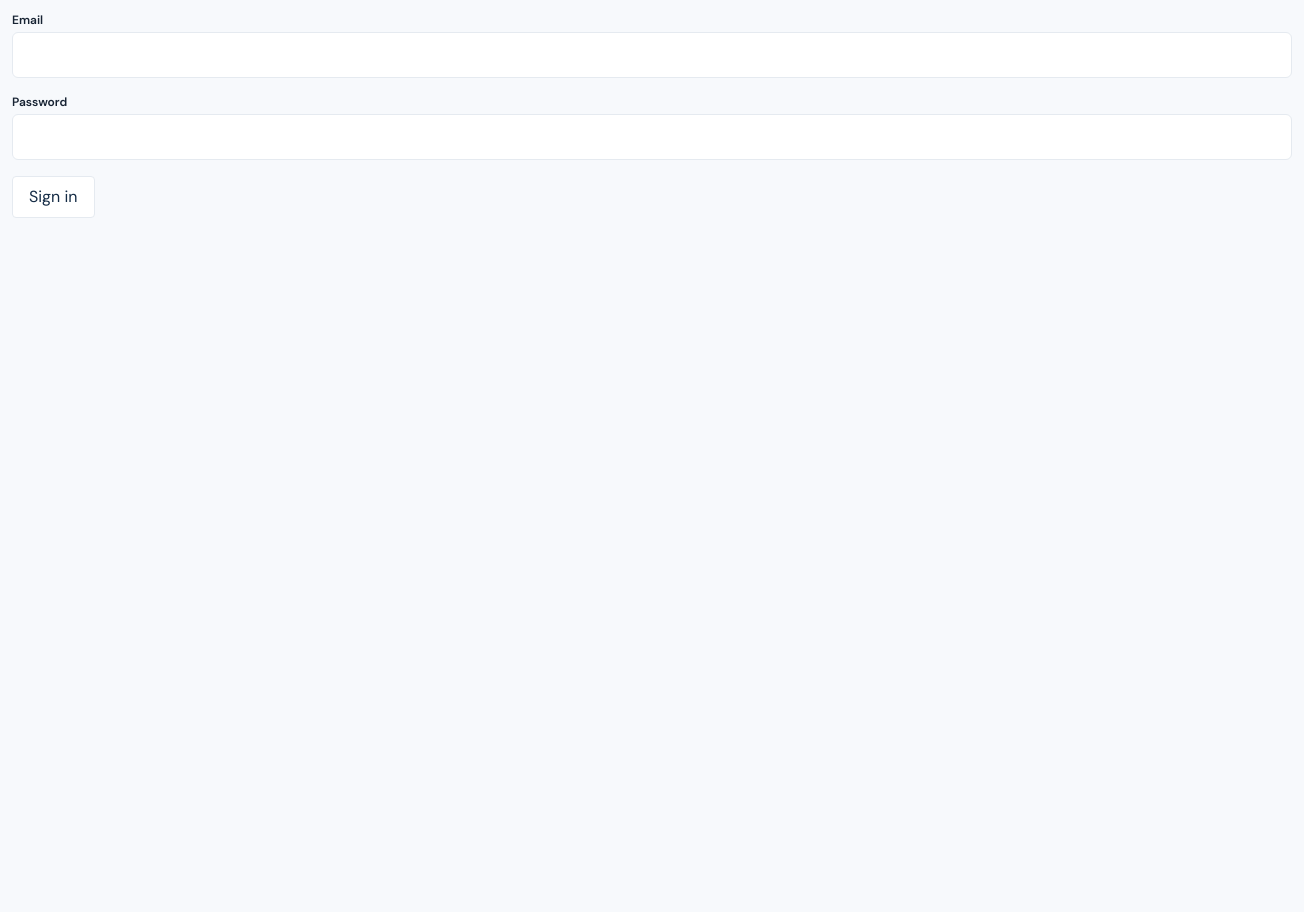
Scenario: AuthForm › keeps validation active and shows a friendly message after valid input
Click the button "Sign in": [53, 197] box [12, 176, 94, 218]
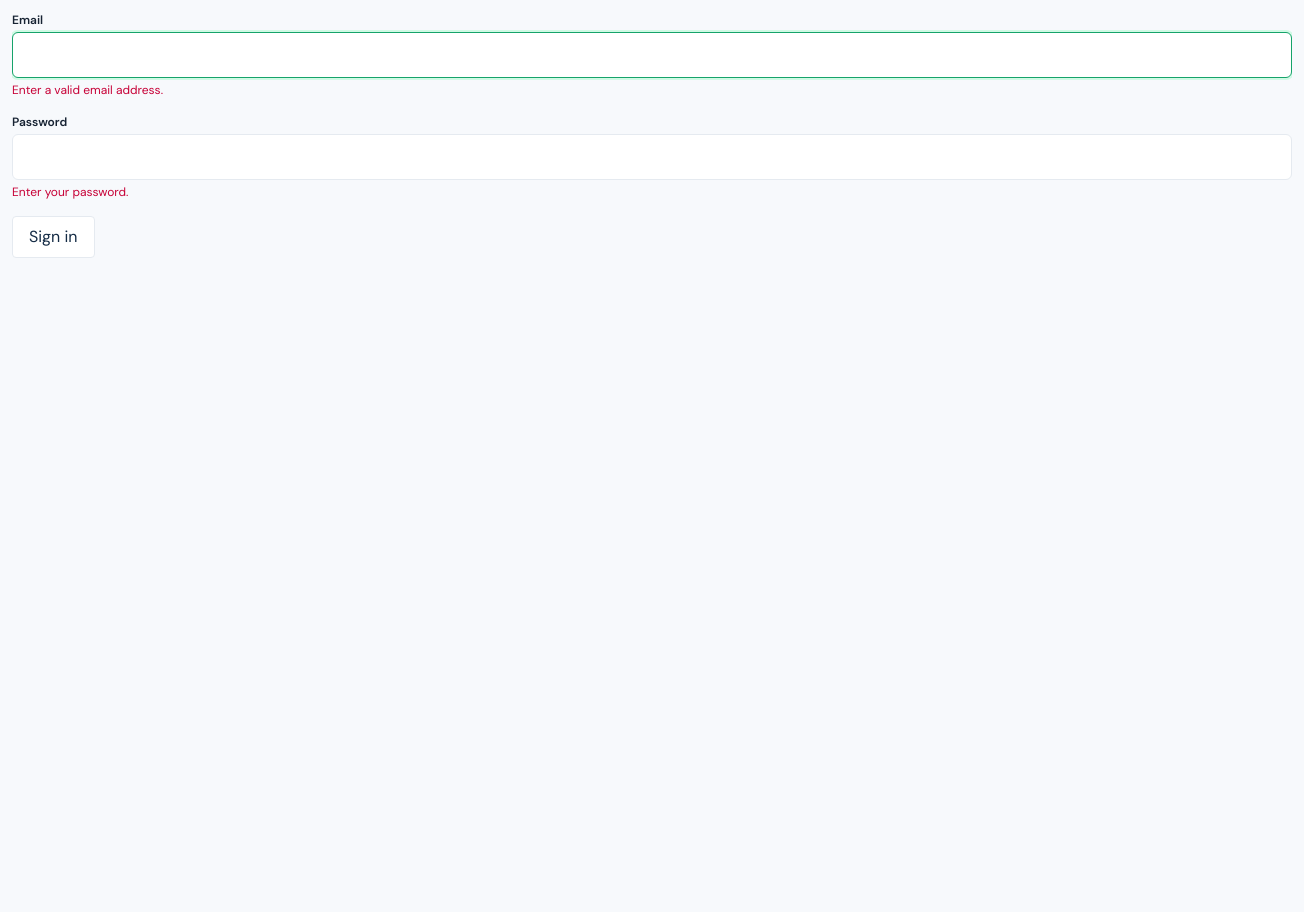
Expected: the text "Enter a valid email address." is shown, [12, 82, 163, 98]
In the field labelled "Email": [652, 55] box [12, 32, 1292, 78], type "seller@example.com"
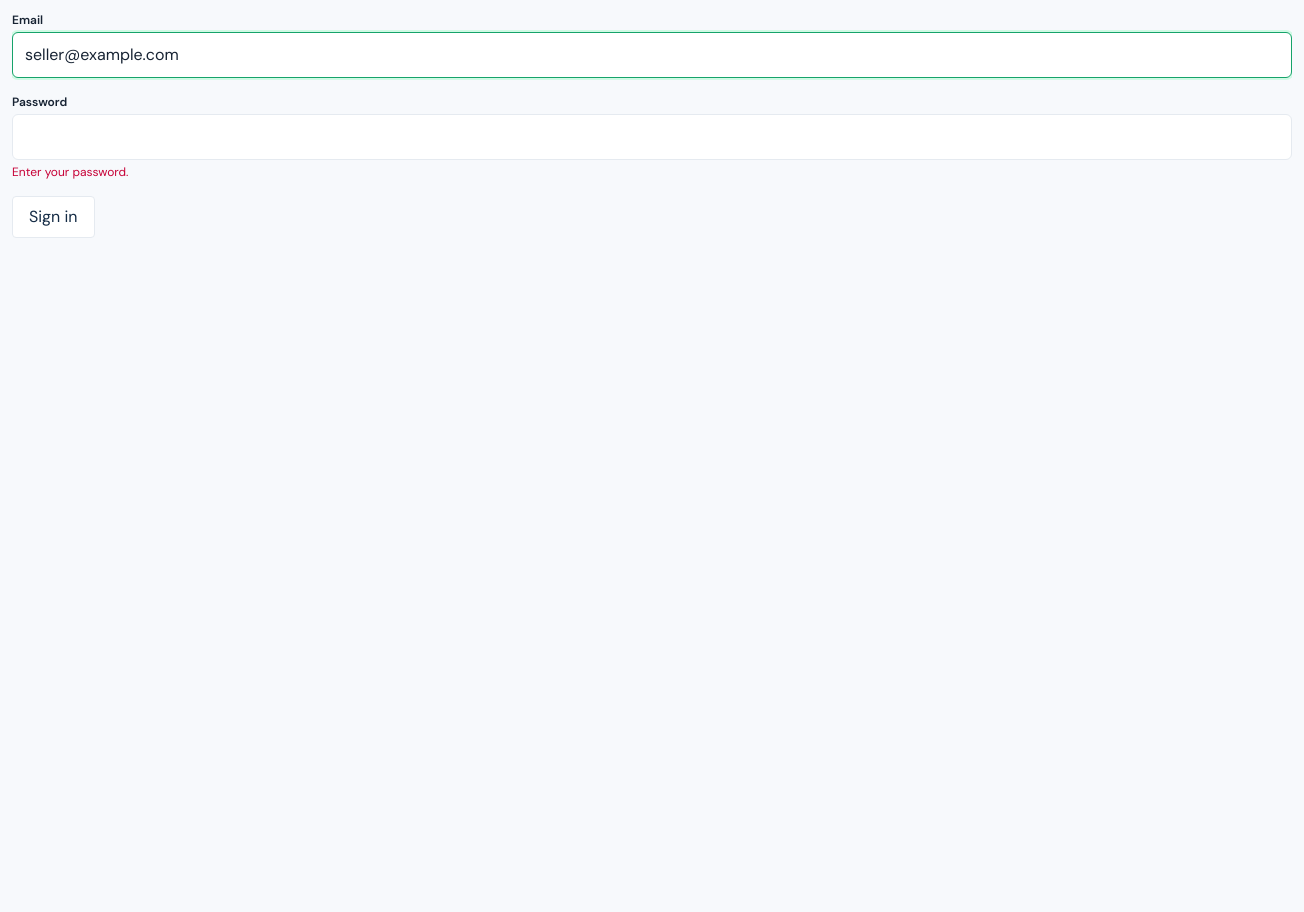
In the password field labelled "Password": [652, 137] box [12, 114, 1292, 160], type "correct-horse-battery"
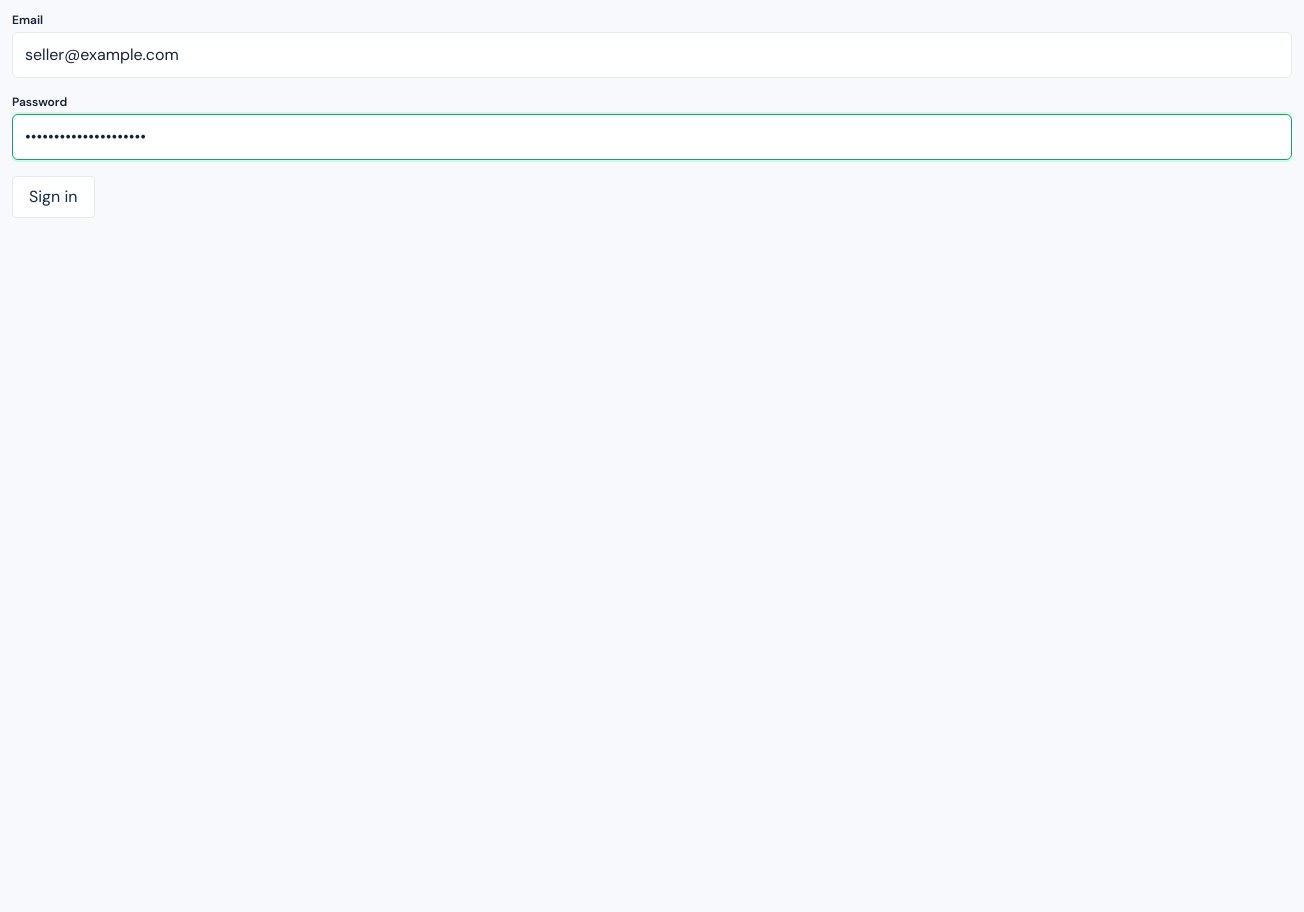
Click the button "Sign in": [53, 197] box [12, 176, 94, 218]
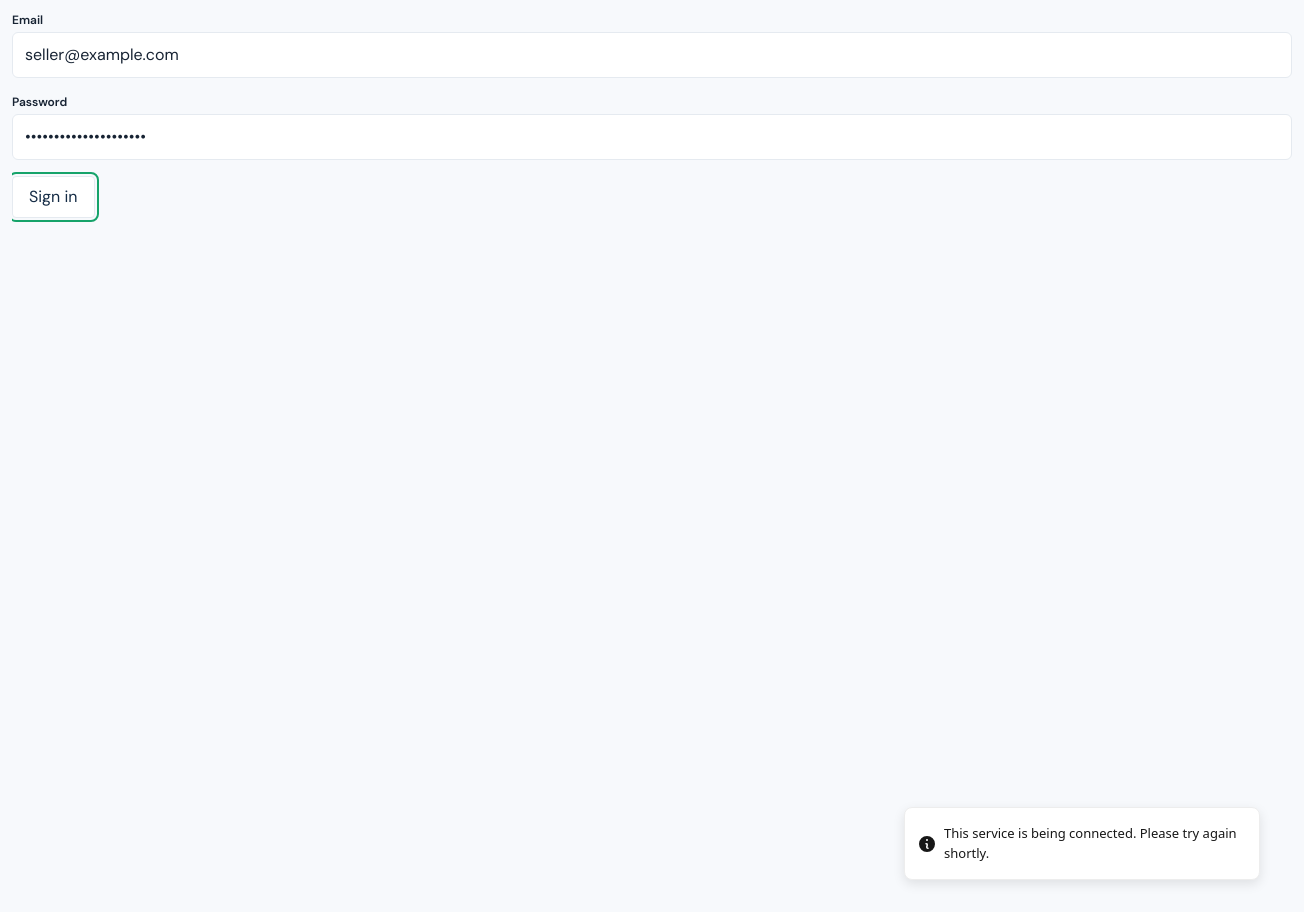
Expected: the text "This service is being connected. Please try again shortly." is shown, [944, 824, 1243, 863]
